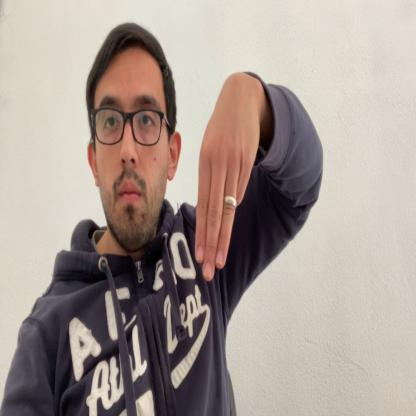M: (194, 74, 260, 280)
